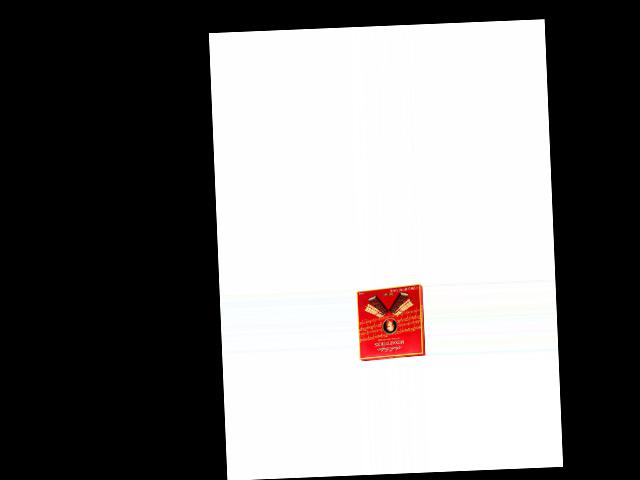chocolate: (354, 282, 426, 359)
